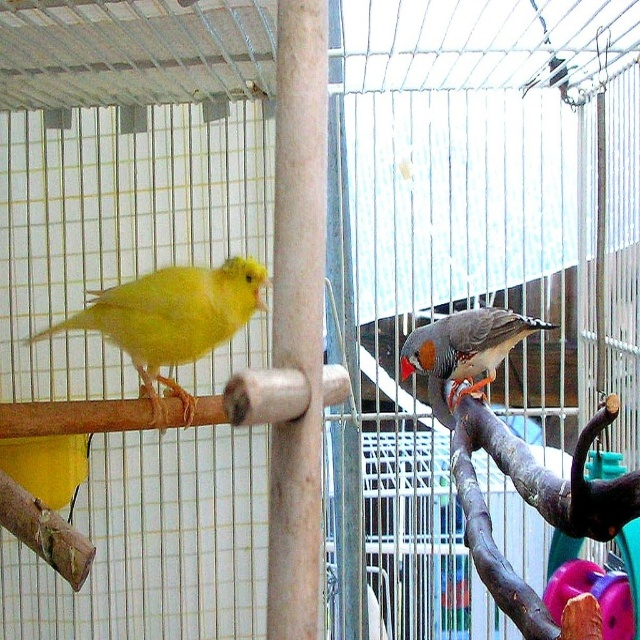Canary: (21, 257, 275, 432), (399, 307, 560, 413)
